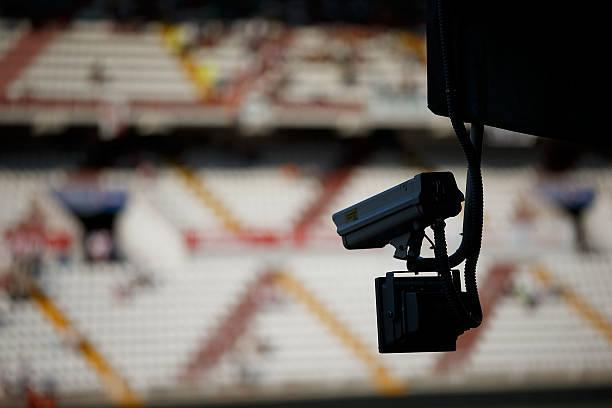camera: (308, 156, 470, 262)
